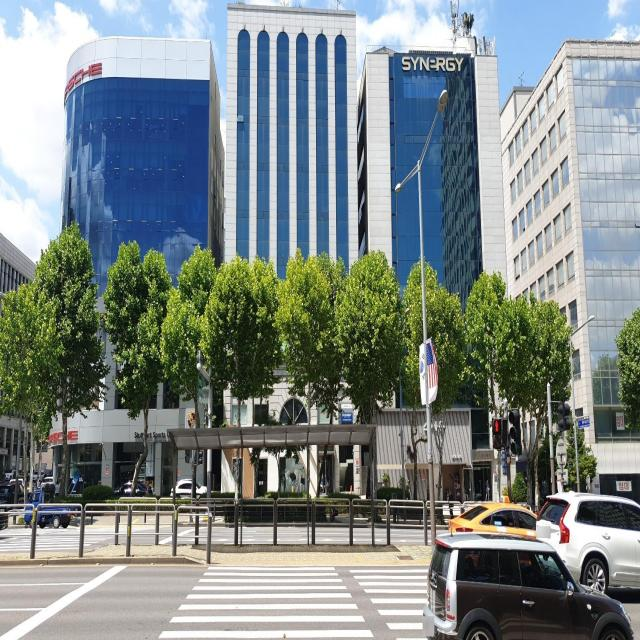빨간불: (492, 418, 502, 450)
횡단보도: (158, 565, 440, 640)
